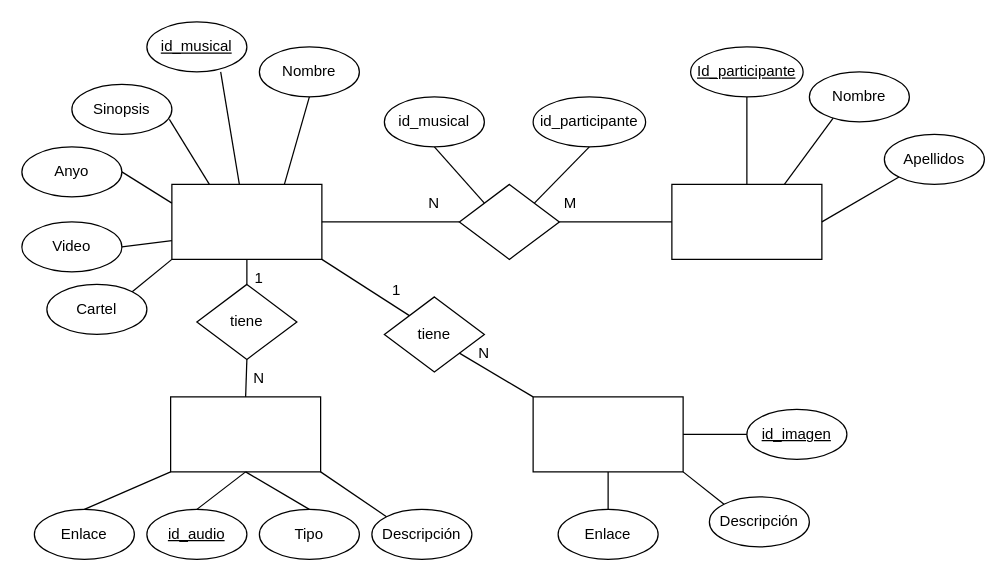
The diagram is 1006 pixels wide and 581 high, and some of its shapes have lost their labels. Each missing label, with the centre of its shape:
"Audio" belongs at point (245, 434).
"Imagen" belongs at point (607, 434).
"Musical" belongs at point (246, 221).
"Participa" belongs at point (508, 221).
"Participante" belongs at point (746, 221).
